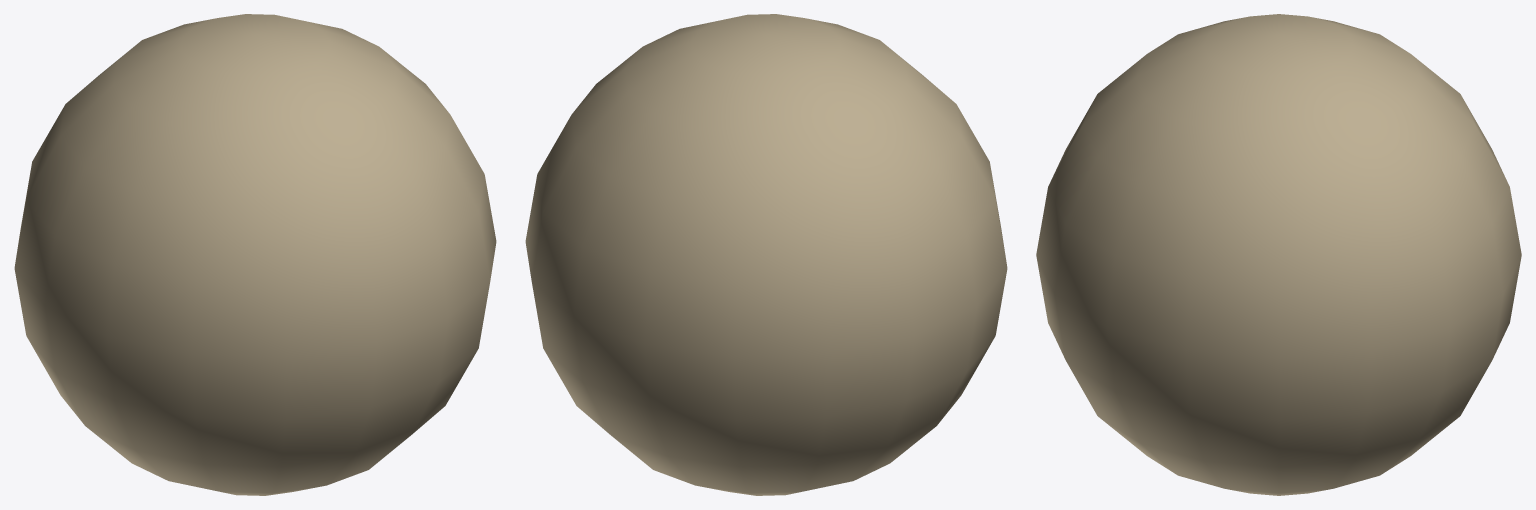
The picture shows the model from 3 angles, left to right: view 1: azimuth 30°, elevation 25°; view 2: azimuth 150°, elevation 25°; view 3: azimuth 270°, elevation 25°; orthographic projection.
Visible parts, largest first — view 1: sphere-graffitiCream; view 2: sphere-graffitiCream; view 3: sphere-graffitiCream.
Part boxes in pixels (x1,y1,x2,y2): sphere-graffitiCream: [14, 14, 496, 495]; sphere-graffitiCream: [525, 14, 1007, 495]; sphere-graffitiCream: [1036, 14, 1521, 495].
Size of the model in its own units: 1 by 1 by 1.
